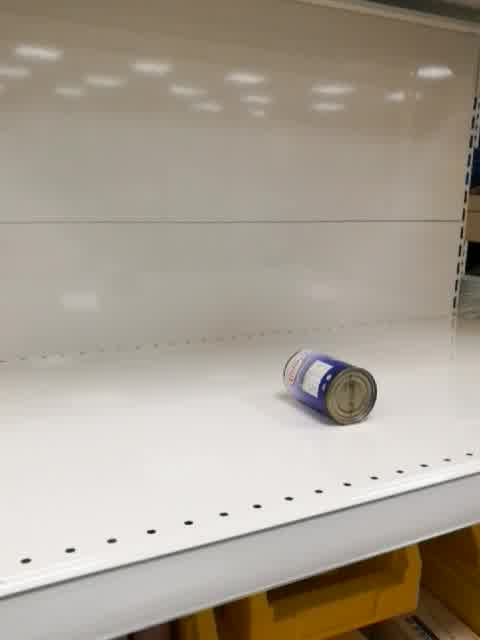sardine: (281, 347, 379, 427)
